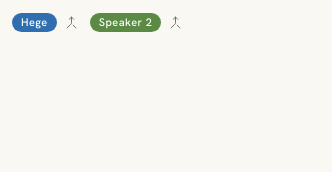
Test: SpeakerLabels cross-note rename › abandons the scope choice on Escape without renaming
The width and height of the screenshot is (332, 172).
Click the button "Hege". click: click(34, 23)
box: [12,13,57,32]
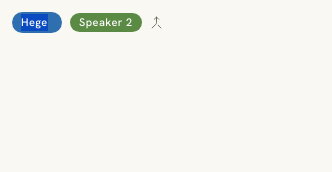
Clear the dropdown. click: (37, 22)
box: [12,12,62,33]
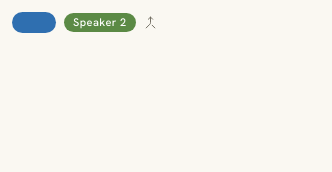
Type "Hege Tronshaugen" into the dropdown. click: (34, 22)
box: [12,12,56,33]
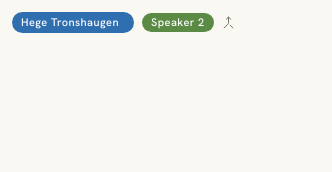
Press Enter
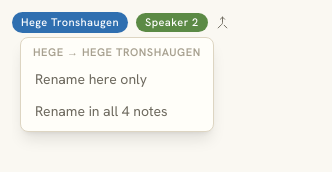
Press Escape
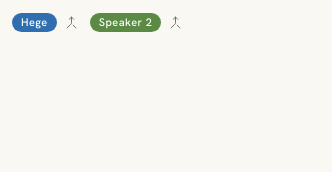
Now the menu item "Rename here only" is gone
